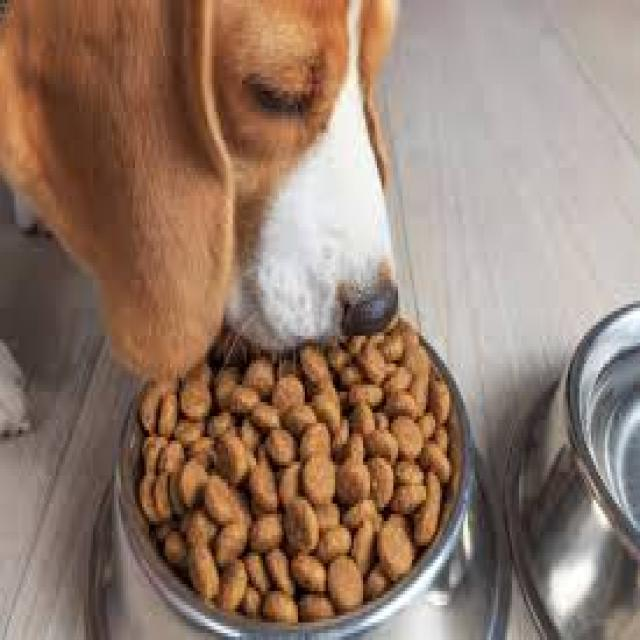Dog: (0, 1, 416, 383)
